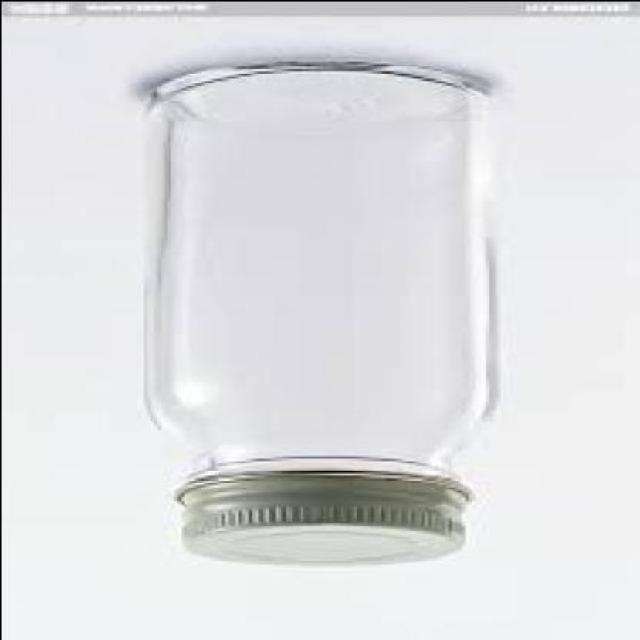glass: (143, 66, 488, 485)
metal: (169, 474, 465, 566)
